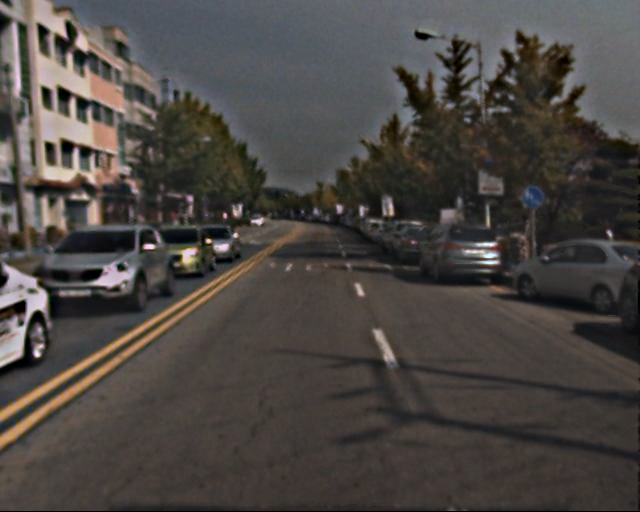person: (515, 211, 539, 270), (493, 212, 516, 268), (590, 216, 613, 271)
